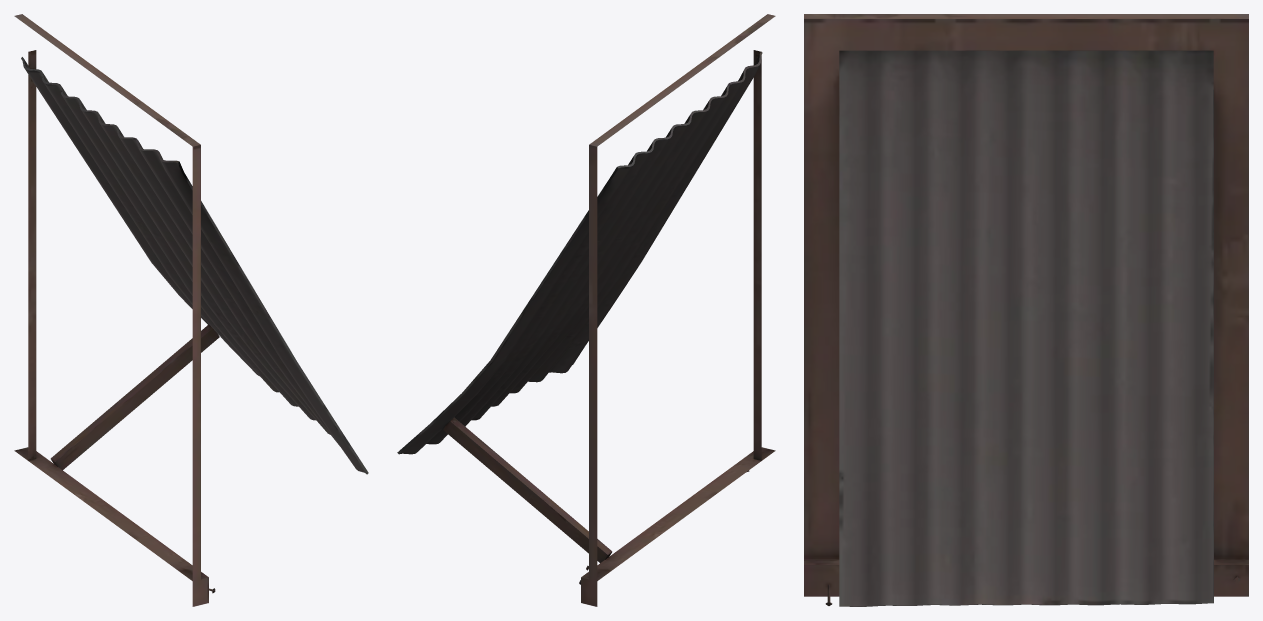
3 renders of one model, left to right at view 1: azimuth 30°, elevation 25°; view 2: azimuth 150°, elevation 25°; view 3: azimuth 270°, elevation 25°, orthographic. The views are drawn at different scales.
Parts seen in each view (by area): view 1: body0_model0_lod0_mesh0; view 2: body0_model0_lod0_mesh0; view 3: body0_model0_lod0_mesh0.
Part boxes in pixels (x1=…): body0_model0_lod0_mesh0: x1=14, y1=14, x2=368, y2=606; body0_model0_lod0_mesh0: x1=397, y1=14, x2=775, y2=606; body0_model0_lod0_mesh0: x1=804, y1=14, x2=1248, y2=606.
Bounding box in the file's own units: 55.62 × 108 × 76.
1 material, 1 textured.
